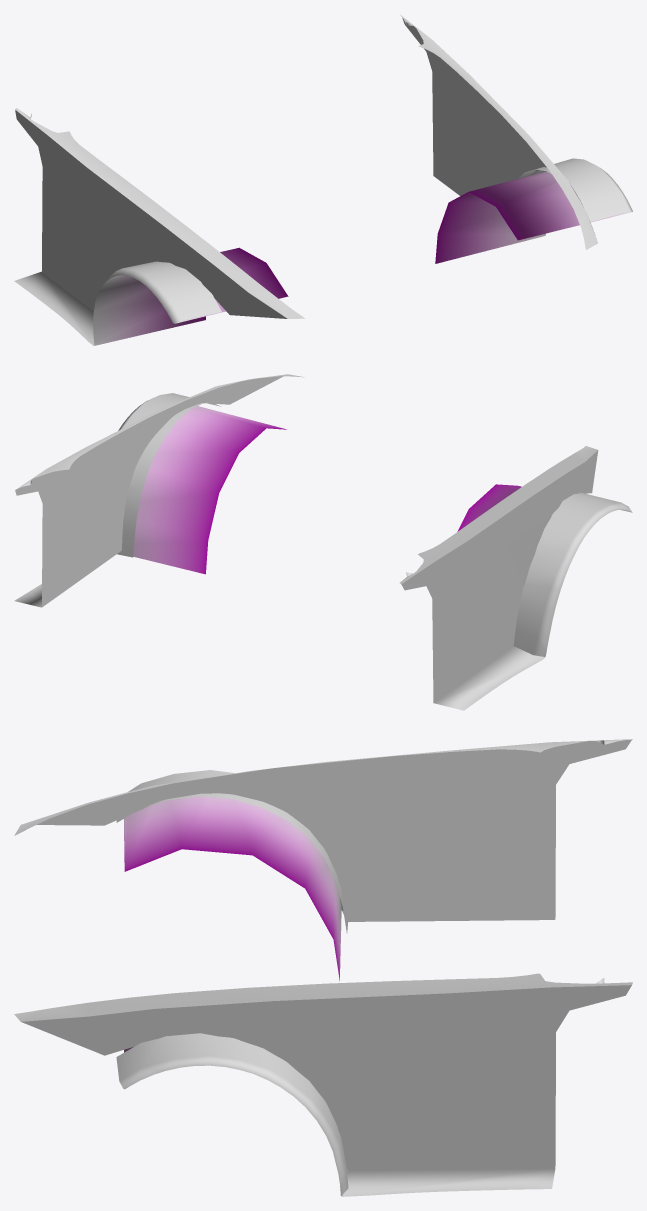
File: Car_MercedesBenz_AMGGT_2015_FendersChassisF_SetGTR.fbx
3 renders of one model, top to bottom at view 1: azimuth 30°, elevation 25°; view 2: azimuth 150°, elevation 25°; view 3: azimuth 270°, elevation 25°, orthographic. The views are drawn at different scales.
Parts seen in each view (by area): view 1: FendersChassisF 6; view 2: FendersChassisF 6; view 3: FendersChassisF 6.
Part boxes in pixels (x1,y1,x2,y2): FendersChassisF 6: (14,14,632,345); FendersChassisF 6: (14,374,632,710); FendersChassisF 6: (14,739,632,1196).
Bounding box in the file's own units: 1.95 × 0.6041 × 1.73.
